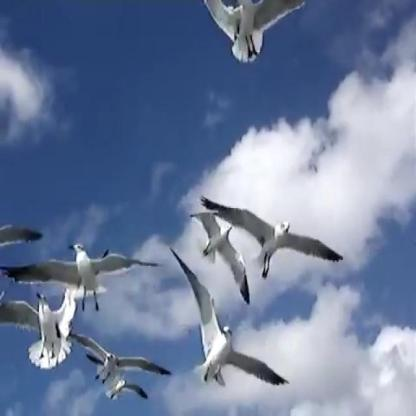bird: (203, 196, 346, 282), (164, 283, 279, 387), (16, 236, 149, 307), (10, 276, 79, 382), (177, 209, 260, 293), (206, 0, 289, 78), (68, 340, 154, 383)
